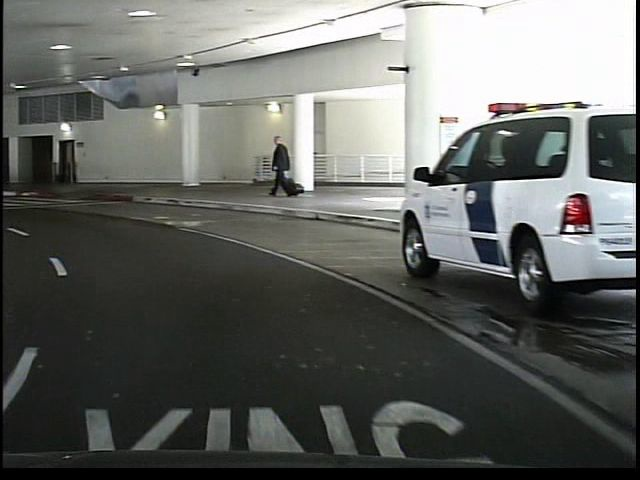person: (264, 130, 293, 202)
